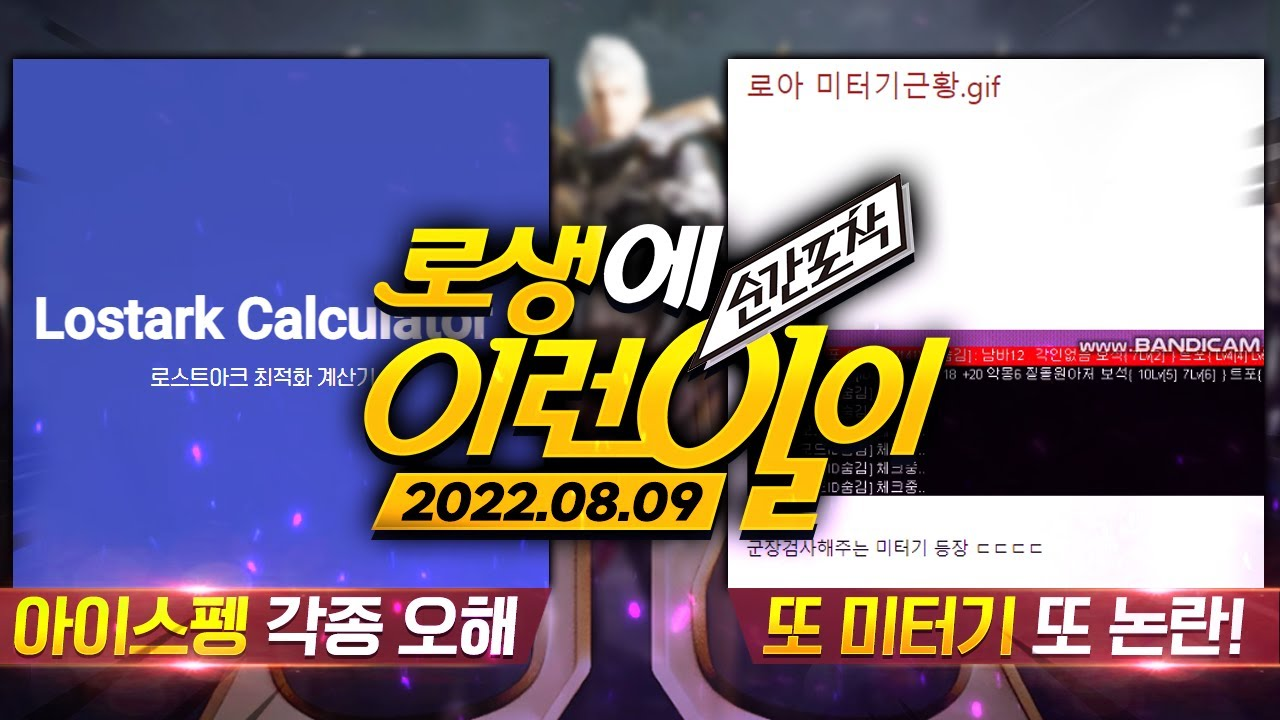논란!: (1105, 591, 1249, 659)
로생에: (370, 220, 728, 335)
아이스펭: (9, 591, 253, 659)
